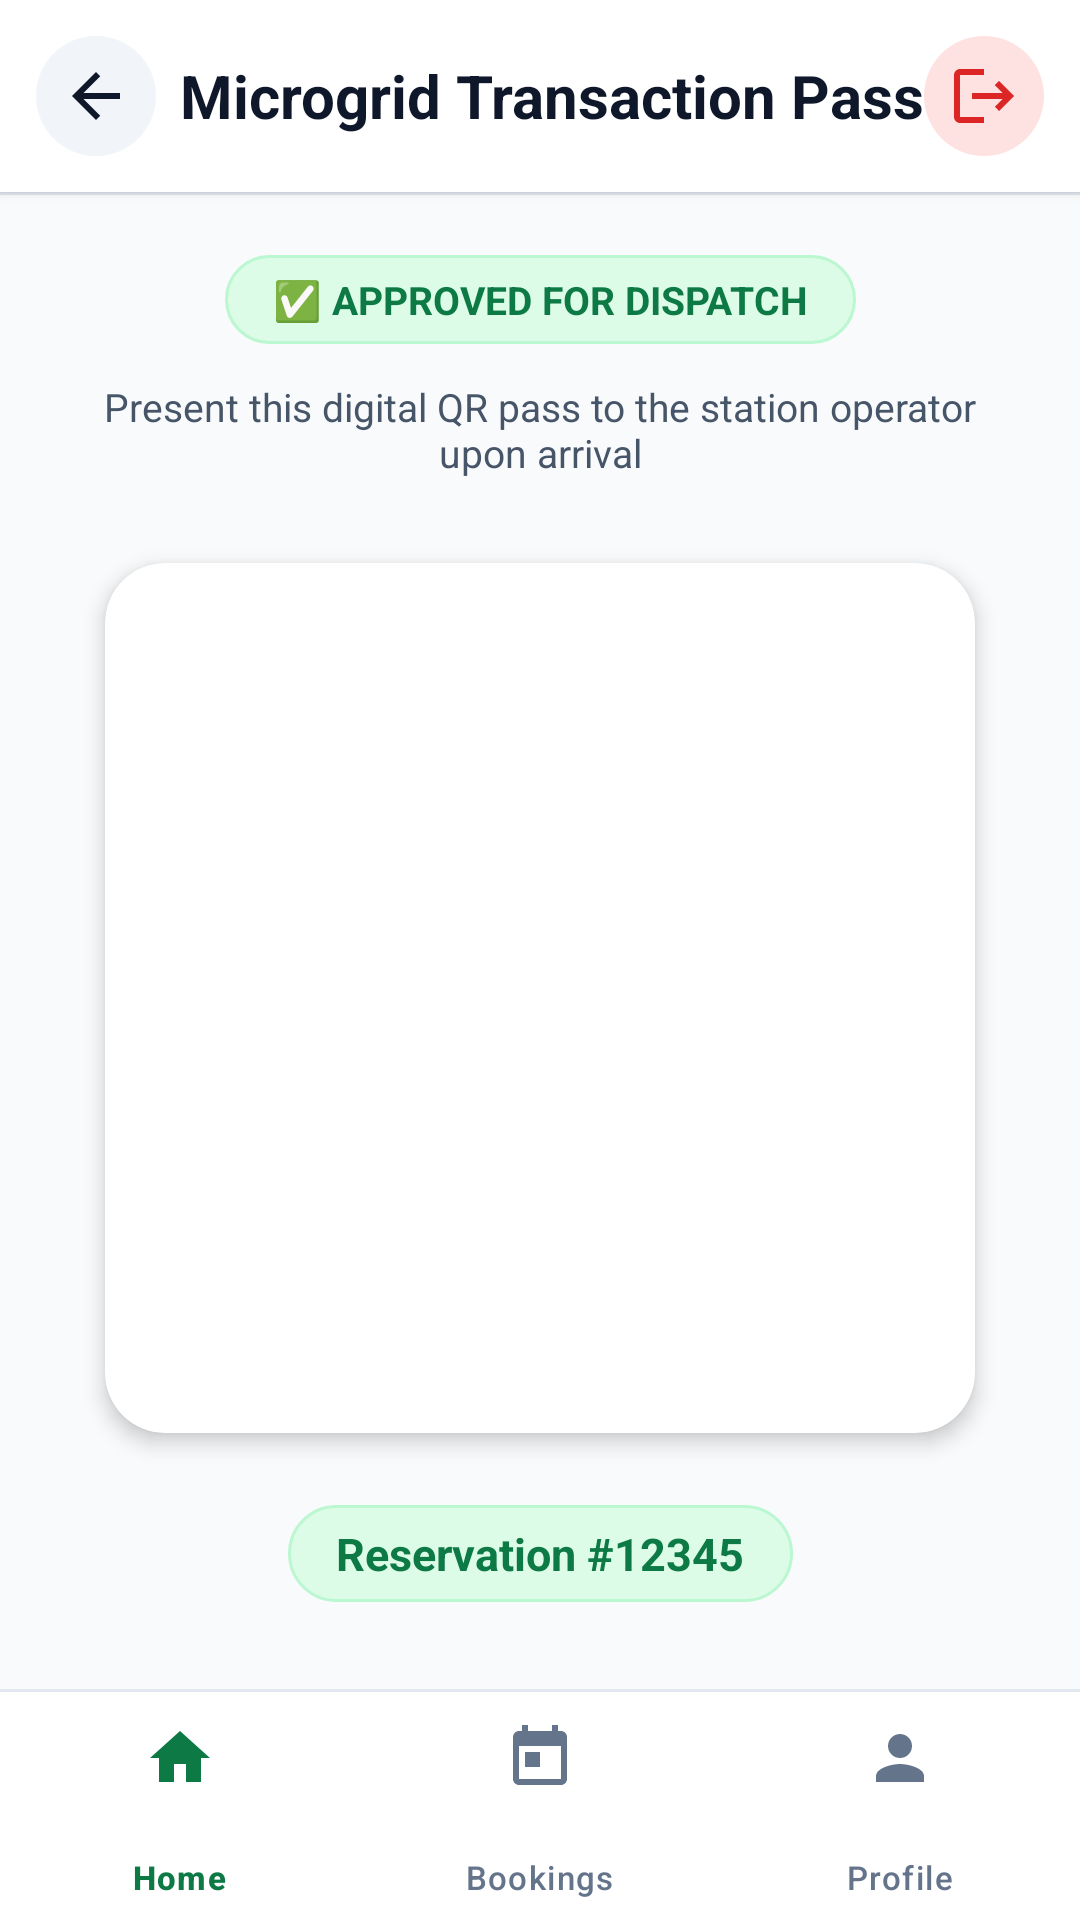

Icons on this 1080 x 1920 Android screen, each with the point to tap as (x,y):
Back: (96,96)
